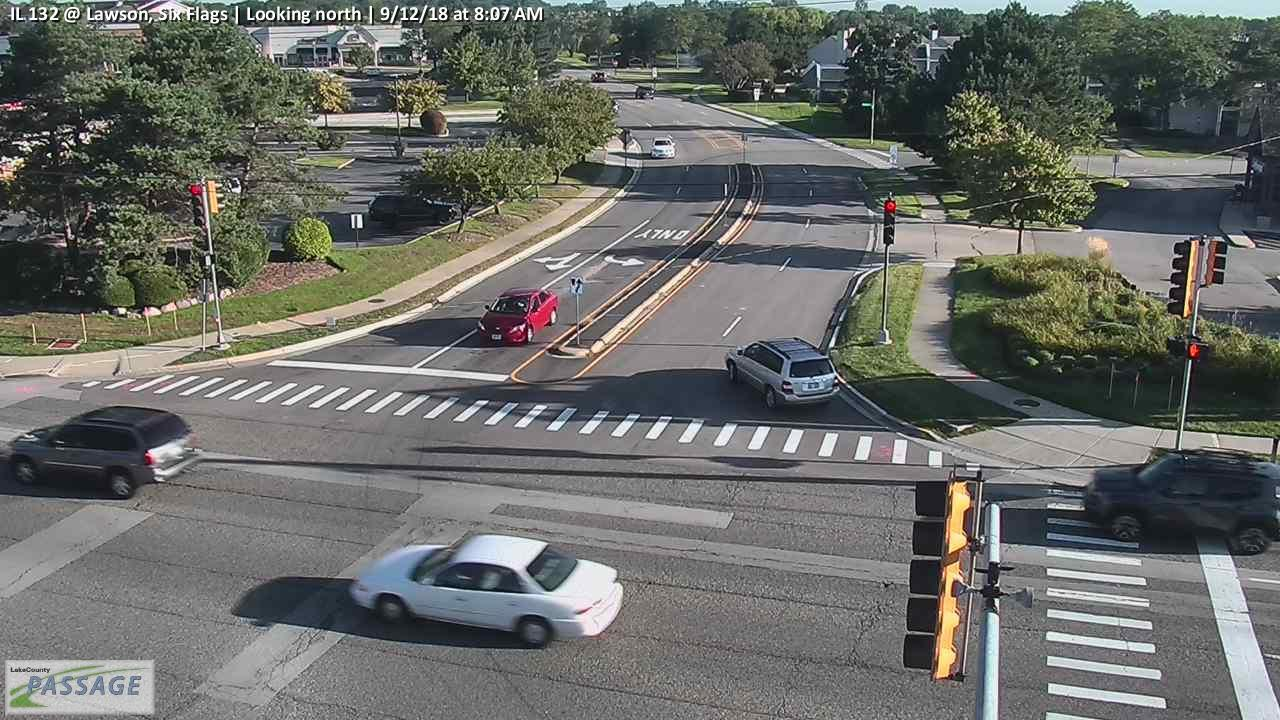SUV: (1086, 446, 1280, 554), (10, 407, 202, 498), (725, 336, 840, 410), (369, 191, 457, 225), (636, 85, 657, 101), (592, 72, 607, 82)
Sedan: (348, 532, 623, 647), (476, 288, 561, 345), (652, 136, 676, 159)
